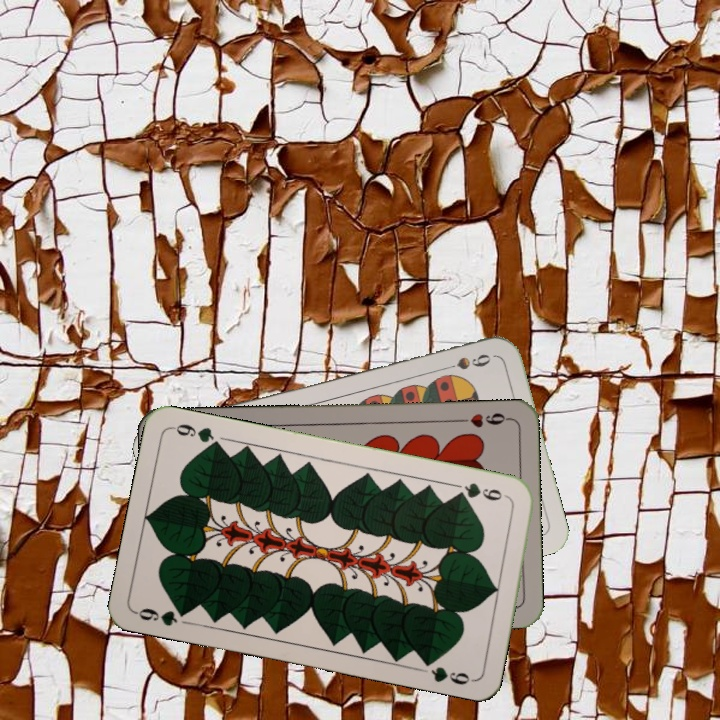G9: (451, 478, 512, 504), (132, 604, 193, 629)
H9: (453, 409, 512, 430)
S9: (437, 350, 494, 374)
